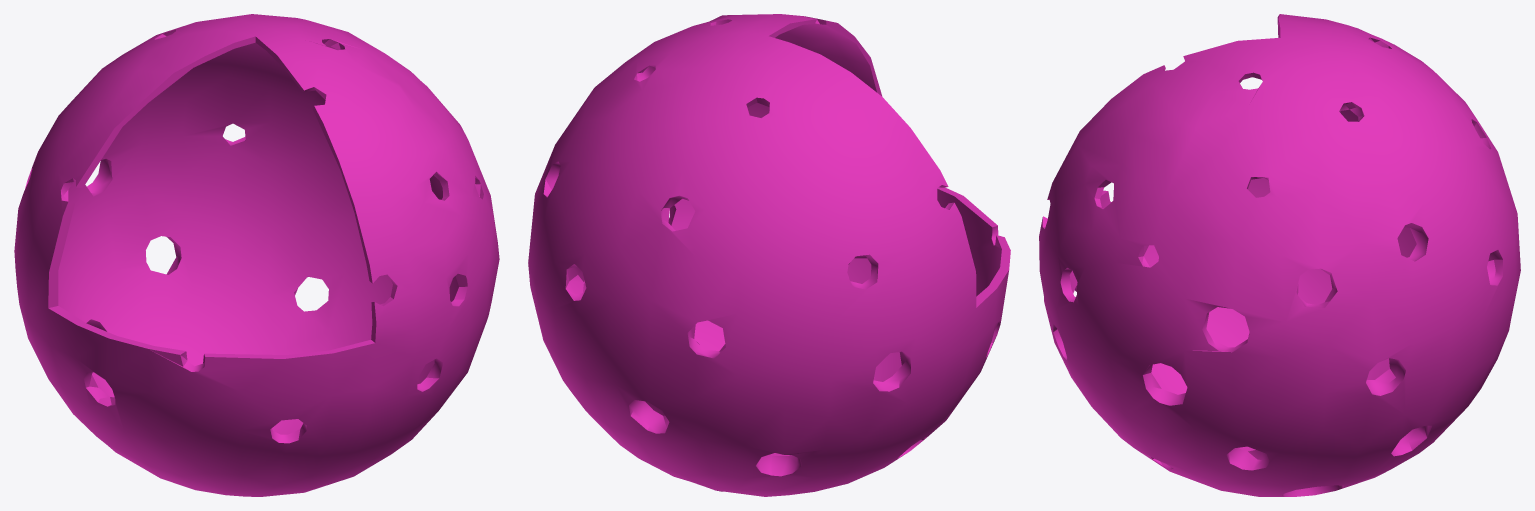
File: nucleus1.glb
3 renders of one model, left to right at view 1: azimuth 30°, elevation 25°; view 2: azimuth 150°, elevation 25°; view 3: azimuth 270°, elevation 25°, orthographic.
Parts seen in each view (by area): view 1: Nuclear Envelope; view 2: Nuclear Envelope; view 3: Nuclear Envelope.
Boxes of the visible parts, x1,y1,x2,y2 form: Nuclear Envelope: [14, 14, 499, 496]; Nuclear Envelope: [528, 14, 1010, 496]; Nuclear Envelope: [1039, 14, 1520, 496].
Bounding box in the file's own units: 5.12 × 5.13 × 5.12.
